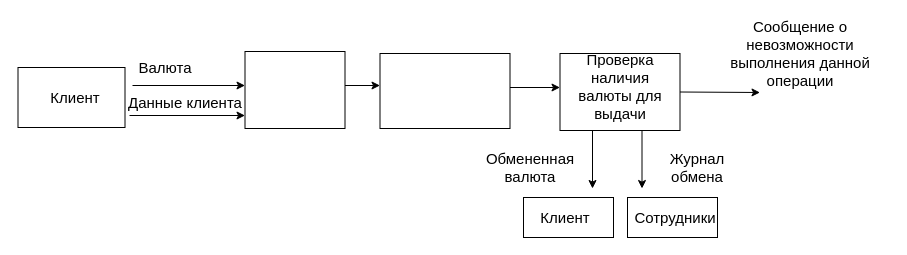
Image size: 907x255. Some labels were removed from this diagram. Here are the shapes that lost their labels. From the top down, the centre of each, then its label:
the point at 294,89: Операция обмена
the point at 444,90: Расчет номинала выходной валюты
